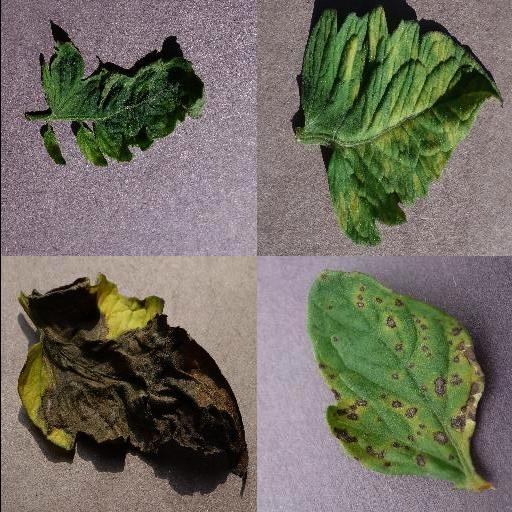Late Blight: (14, 271, 250, 481)
Leaf Mold: (298, 5, 504, 247)
Mosaic Virus: (38, 40, 208, 167)
Septoria: (307, 269, 500, 493)
